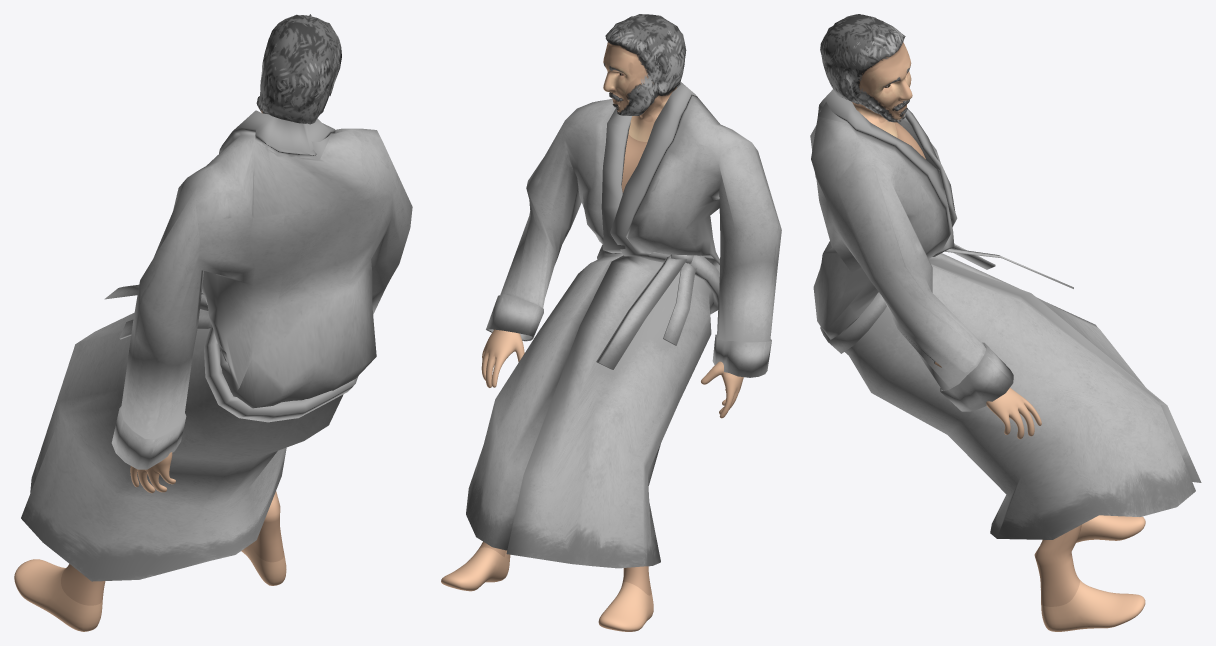
File: alan_chair.gltf
The picture shows the model from 3 angles, left to right: view 1: azimuth 30°, elevation 25°; view 2: azimuth 150°, elevation 25°; view 3: azimuth 270°, elevation 25°; orthographic projection. The views are drawn at different scales.
Visible parts, largest first — view 1: alan_chair; view 2: alan_chair; view 3: alan_chair.
Part boxes in pixels (x1,y1,x2,y2): alan_chair: (14, 14, 412, 631); alan_chair: (441, 14, 781, 631); alan_chair: (810, 14, 1201, 631).
Size of the model in its own units: 2.09 by 4.51 by 2.77.
Materials: 4 (3 with a texture image).
